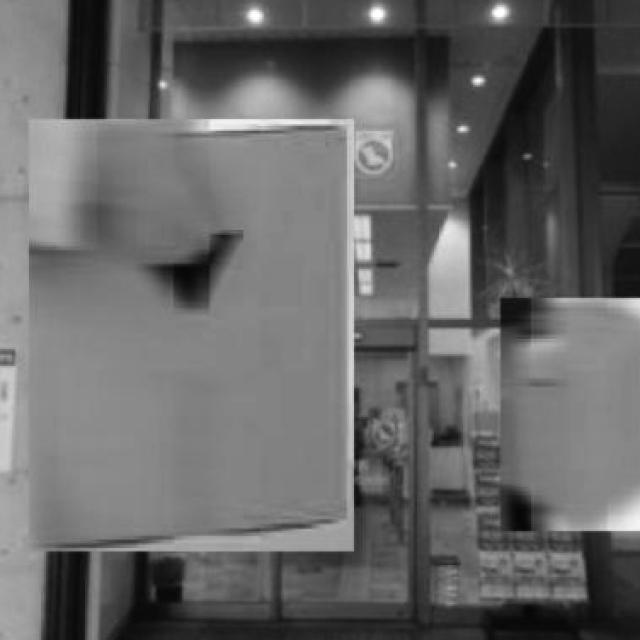box: (22, 112, 358, 560), (497, 294, 640, 536)
